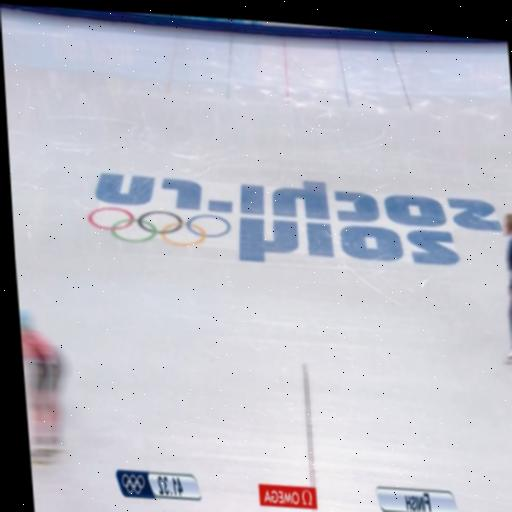Skater: (19, 310, 60, 456)
